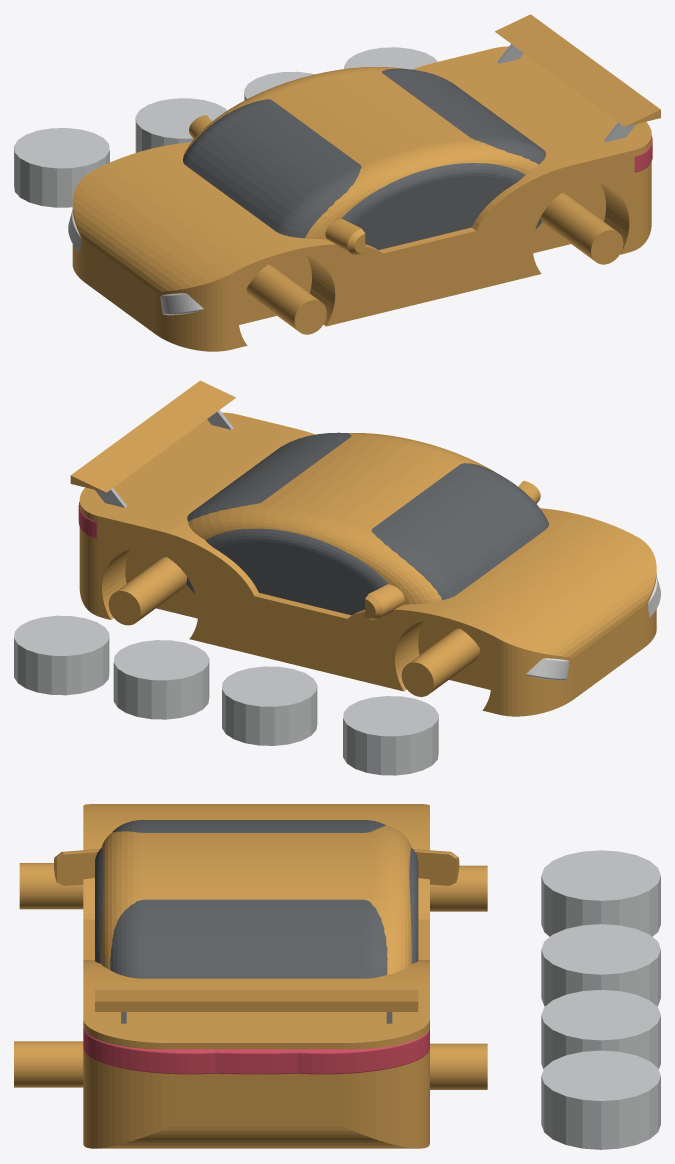
The model's file is noah_car.glb.
The picture shows the model from 3 angles, top to bottom: view 1: azimuth 30°, elevation 25°; view 2: azimuth 150°, elevation 25°; view 3: azimuth 270°, elevation 25°; orthographic projection. The views are drawn at different scales.
Visible parts, largest first — view 1: Mesh_Mesh_head_geo.001_lambert2SG.001; view 2: Mesh_Mesh_head_geo.001_lambert2SG.001; view 3: Mesh_Mesh_head_geo.001_lambert2SG.001.
Boxes of the visible parts, x1,y1,x2,y2 form: Mesh_Mesh_head_geo.001_lambert2SG.001: [14, 14, 660, 351]; Mesh_Mesh_head_geo.001_lambert2SG.001: [14, 380, 660, 775]; Mesh_Mesh_head_geo.001_lambert2SG.001: [14, 804, 660, 1149].
Bounding box in the file's own units: 121 × 32 × 112.
